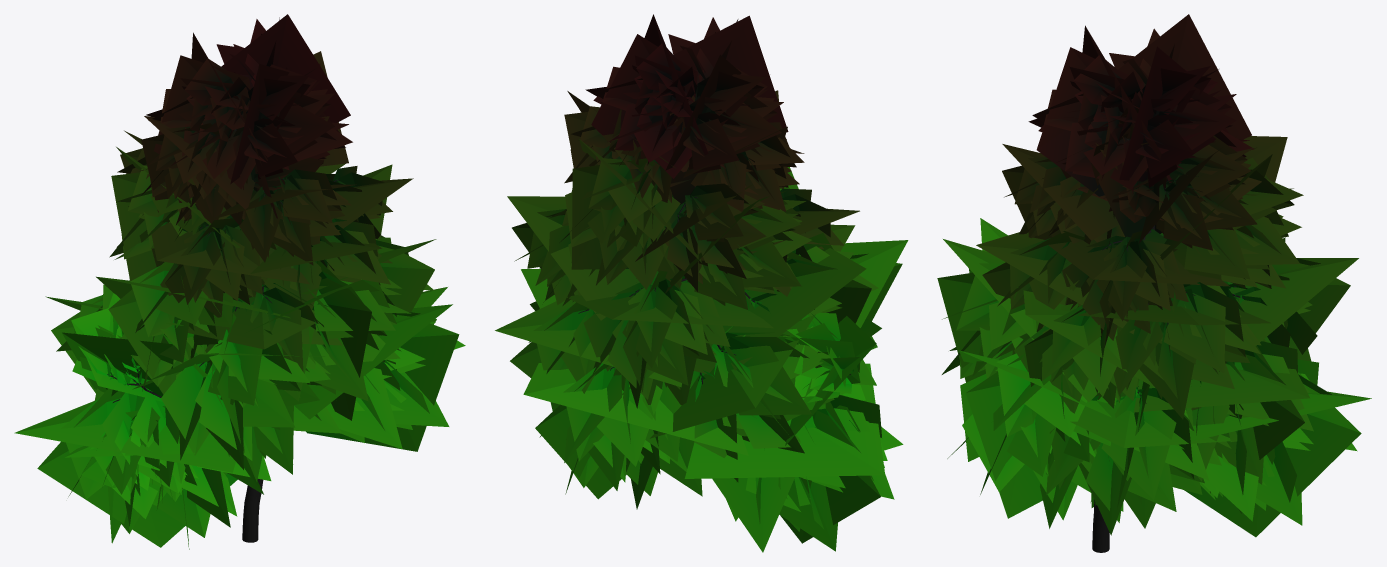
File: birch_tree_6.FBX
The picture shows the model from 3 angles, left to right: view 1: azimuth 30°, elevation 25°; view 2: azimuth 150°, elevation 25°; view 3: azimuth 270°, elevation 25°; orthographic projection. The views are drawn at different scales.
Visible parts, largest first — view 1: birch_leaves_lod_0, birch_leaves_shadow, birch_trunk_lod_0; view 2: birch_leaves_lod_0, birch_leaves_shadow; view 3: birch_leaves_lod_0, birch_leaves_shadow, birch_trunk_lod_0.
Boxes of the visible parts, <box> form: birch_leaves_lod_0: <box>56,19,465,549</box>; birch_leaves_shadow: <box>14,14,459,547</box>; birch_trunk_lod_0: <box>242,479,263,542</box>; birch_leaves_lod_0: <box>514,17,903,552</box>; birch_leaves_shadow: <box>495,14,908,543</box>; birch_leaves_lod_0: <box>942,28,1357,535</box>; birch_leaves_shadow: <box>937,14,1371,537</box>; birch_trunk_lod_0: <box>1092,225,1154,552</box>.
Size of what is drawn, in the model's own units: 8.7 by 10.35 by 7.58.
